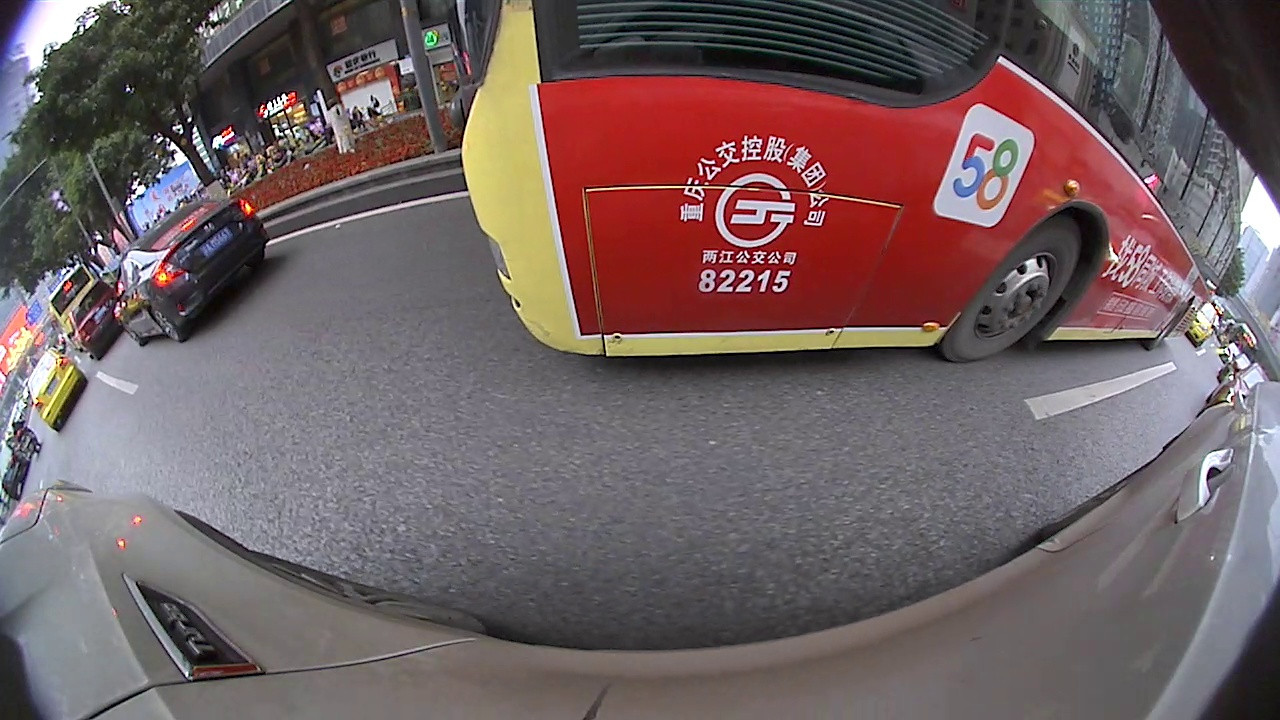bus: (450, 1, 1250, 364)
car: (115, 193, 274, 349), (23, 346, 91, 433), (66, 278, 129, 364)
front: (935, 218, 1092, 365), (119, 321, 145, 347)
rear: (1141, 299, 1193, 355), (143, 305, 189, 346)
